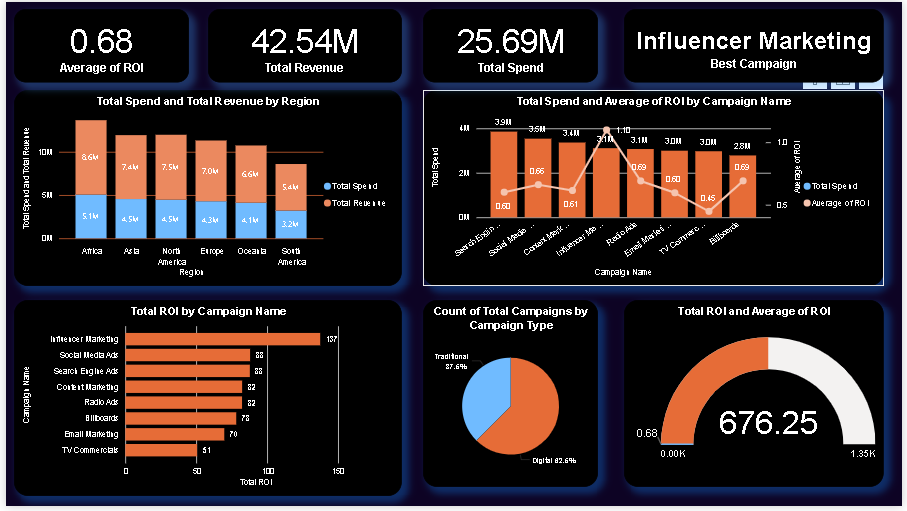

The dashboard page shown, as its layout file describes it:
{"tool":"powerbi","page":{"name":"Campaign Performance  Dashboard","canvas":[1280,720],"ordinal":0},"visuals":[{"type":"columnChart","fields":{"Y":["marketing campaign performance.Total Spend","marketing campaign performance.Total Revenue"],"Category":["marketing campaign performance.Region"]},"box":[11.3,125.2,554.2,279.9],"z":0},{"type":"lineClusteredColumnComboChart","fields":{"Category":["marketing campaign details.Campaign Name"],"Y":["marketing campaign performance.Total Spend"],"Y2":["Avg(marketing campaign performance.ROI)"]},"box":[596.4,125.2,658.3,279.9],"z":1000},{"type":"barChart","fields":{"Category":["marketing campaign details.Campaign Name"],"Y":["marketing campaign performance.Total ROI"]},"box":[11.3,426.2,554.2,279.9],"z":2000},{"type":"pieChart","fields":{"Category":["marketing campaign details.Campaign Type"],"Y":["CountNonNull(marketing campaign details.Total Campaigns)"]},"box":[596.4,426.2,250.4,267.3],"z":3000},{"type":"gauge","fields":{"TargetValue":["Avg(marketing campaign performance.ROI)"],"Y":["marketing campaign performance.Total ROI"]},"box":[883.3,426.2,371.3,267.3],"z":4000},{"type":"card","fields":{"Values":["Avg(marketing campaign performance.ROI)"]},"box":[11.3,9.8,250.4,105.5],"z":4001},{"type":"card","fields":{"Values":["marketing campaign performance.Total Revenue"]},"box":[288.4,9.8,277.1,105.5],"z":4002},{"type":"card","fields":{"Values":["marketing campaign performance.Total Spend"]},"box":[596.4,9.8,250.4,105.5],"z":4003},{"type":"card","fields":{"Values":["marketing campaign details.Best Campaign"]},"box":[883.3,9.8,371.3,105.5],"z":4004}]}

Visuals, with their boxes in screenshot pixels (x1, y1, x2, y2), scaled from the page's 1280x720 canvas onto the 907x511 screenshot:
columnChart - marketing campaign performance.Total Spend x marketing campaign performance.Total Revenue: (left=8, top=89, right=401, bottom=288)
lineClusteredColumnComboChart - marketing campaign details.Campaign Name x marketing campaign performance.Total Spend: (left=423, top=89, right=889, bottom=288)
barChart - marketing campaign details.Campaign Name x marketing campaign performance.Total ROI: (left=8, top=302, right=401, bottom=501)
pieChart - marketing campaign details.Campaign Type x CountNonNull(marketing campaign details.Total Campaigns): (left=423, top=302, right=600, bottom=492)
gauge - Avg(marketing campaign performance.ROI) x marketing campaign performance.Total ROI: (left=626, top=302, right=889, bottom=492)
card - Avg(marketing campaign performance.ROI): (left=8, top=7, right=185, bottom=82)
card - marketing campaign performance.Total Revenue: (left=204, top=7, right=401, bottom=82)
card - marketing campaign performance.Total Spend: (left=423, top=7, right=600, bottom=82)
card - marketing campaign details.Best Campaign: (left=626, top=7, right=889, bottom=82)
